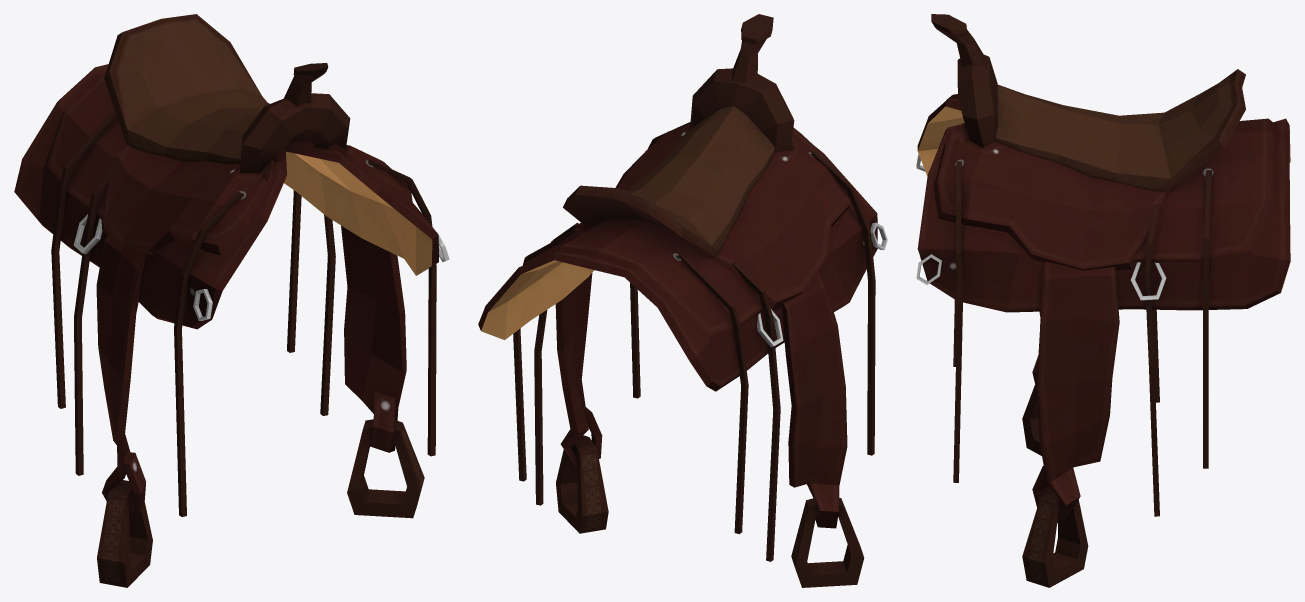
File: saddle.phone.glb
The picture shows the model from 3 angles, left to right: view 1: azimuth 30°, elevation 25°; view 2: azimuth 150°, elevation 25°; view 3: azimuth 270°, elevation 25°; orthographic projection. The views are drawn at different scales.
Parts seen in each view (by area): view 1: Saddle_Mesh; view 2: Saddle_Mesh; view 3: Saddle_Mesh.
Boxes of the visible parts, box(x1,y1,x2,y2) form: Saddle_Mesh: box(14, 14, 449, 587); Saddle_Mesh: box(478, 14, 887, 587); Saddle_Mesh: box(916, 14, 1290, 587).
Size of the model in its own units: 2.42 by 3.67 by 2.51.
1 material, 1 textured.
